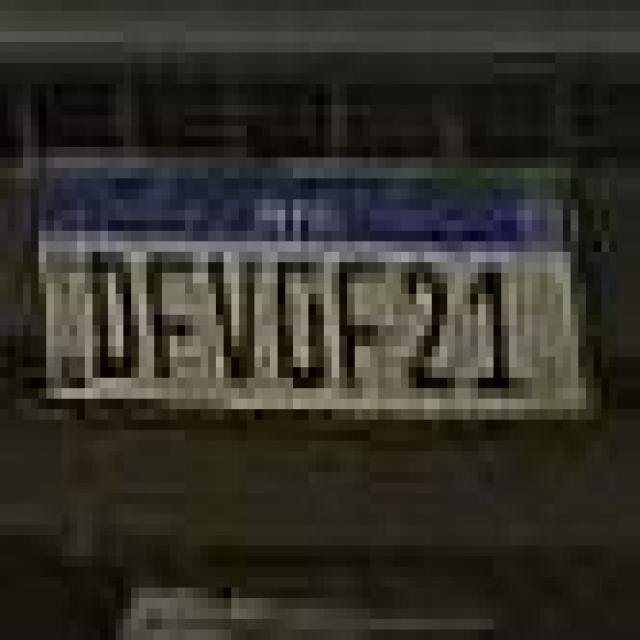0: (274, 251, 326, 398)
1: (466, 256, 520, 392)
D: (90, 242, 142, 380)
F: (143, 238, 206, 388), (333, 251, 391, 401)
V: (211, 244, 264, 392)
